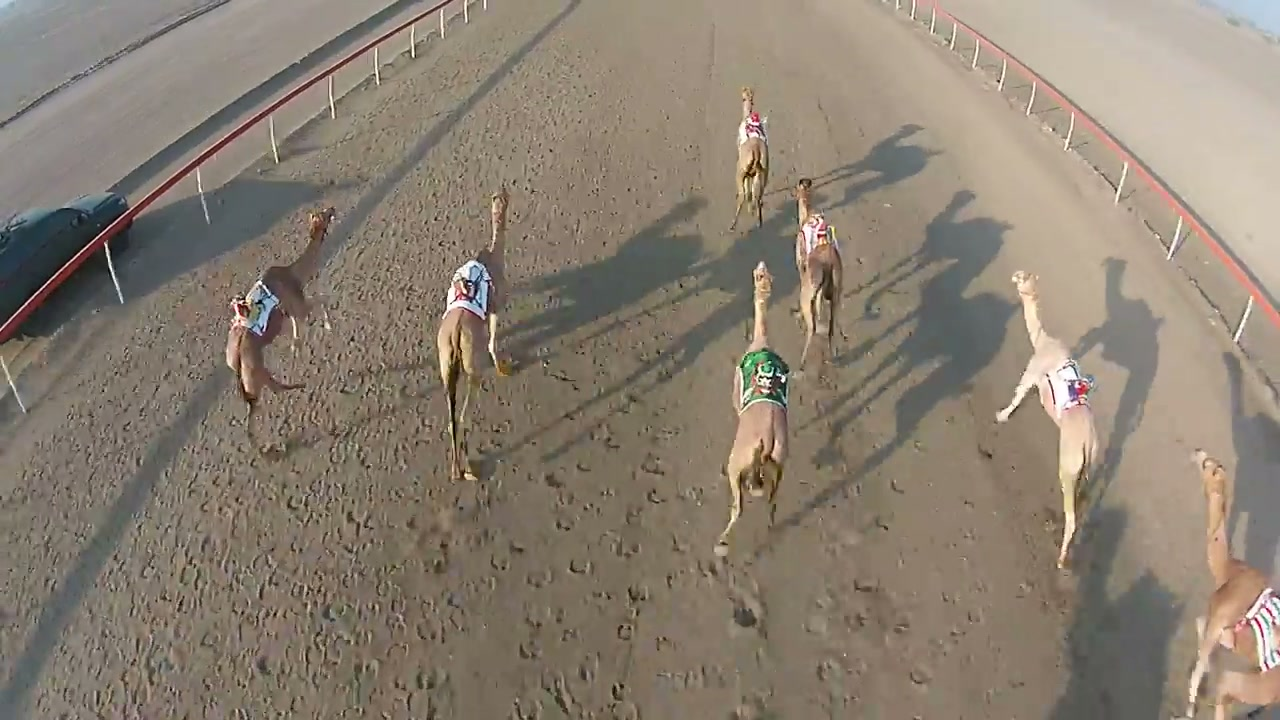animal_foot_print: (73, 355, 679, 719), (686, 395, 1073, 715)
